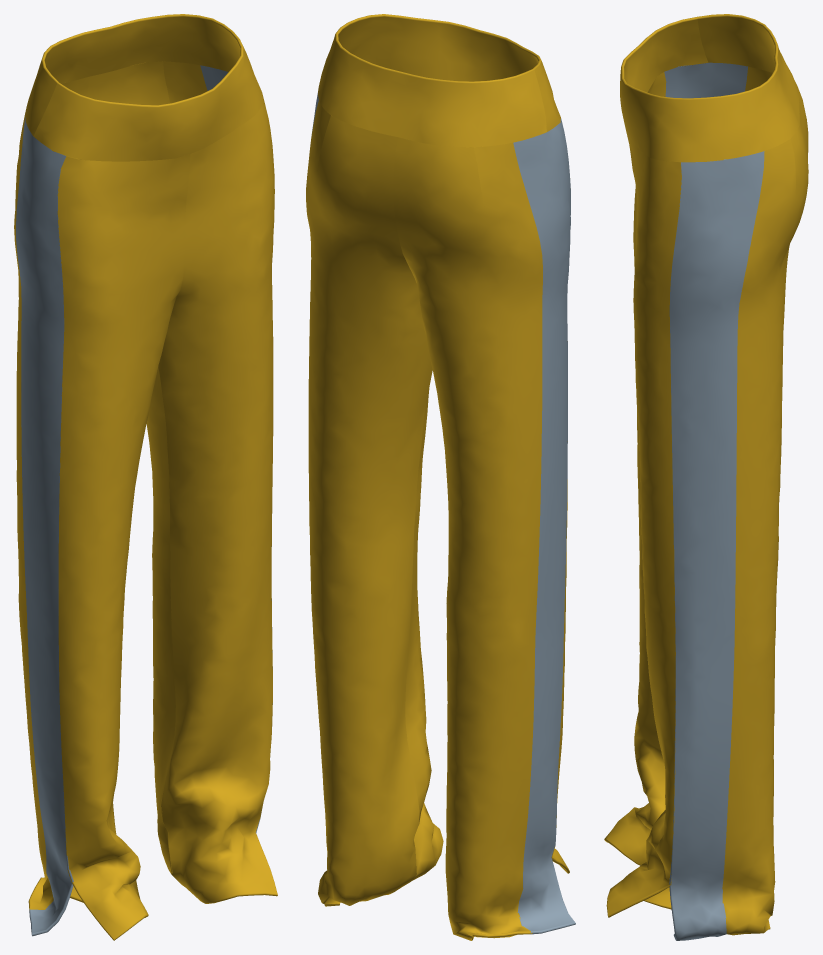
The picture shows the model from 3 angles, left to right: view 1: azimuth 30°, elevation 25°; view 2: azimuth 150°, elevation 25°; view 3: azimuth 270°, elevation 25°; orthographic projection. The views are drawn at different scales.
Parts seen in each view (by area): view 1: Pattern2D_4640240, Pattern2D_4476826, Pattern2D_4640238, Pattern2D_4220494, Pattern2D_4640241, Pattern2D_4555758; view 2: Pattern2D_4555758, Pattern2D_4640241, Pattern2D_4220494, Pattern2D_4640238, Pattern2D_4640240, Pattern2D_4476826; view 3: Pattern2D_4640242, Pattern2D_4640241, Pattern2D_4640240, Pattern2D_4220494, Pattern2D_4476826, Pattern2D_4640238, Pattern2D_4555758.
Boxes of the visible parts, left/top/right/bottom form: Pattern2D_4640240: left=158, top=94, right=277, bottom=903; Pattern2D_4476826: left=57, top=154, right=190, bottom=940; Pattern2D_4640238: left=16, top=117, right=73, bottom=936; Pattern2D_4220494: left=25, top=14, right=263, bottom=161; Pattern2D_4640241: left=87, top=61, right=207, bottom=882; Pattern2D_4555758: left=14, top=76, right=115, bottom=909; Pattern2D_4555758: left=393, top=137, right=542, bottom=940; Pattern2D_4640241: left=306, top=100, right=432, bottom=906; Pattern2D_4220494: left=318, top=14, right=560, bottom=147; Pattern2D_4640238: left=513, top=118, right=575, bottom=934; Pattern2D_4640240: left=405, top=389, right=443, bottom=881; Pattern2D_4476826: left=551, top=441, right=569, bottom=873; Pattern2D_4640242: left=669, top=151, right=764, bottom=940; Pattern2D_4640241: left=722, top=106, right=808, bottom=935; Pattern2D_4640240: left=606, top=133, right=681, bottom=917; Pattern2D_4220494: left=620, top=14, right=799, bottom=162; Pattern2D_4476826: left=604, top=72, right=666, bottom=865; Pattern2D_4640238: left=664, top=62, right=747, bottom=98; Pattern2D_4555758: left=745, top=66, right=808, bottom=152.
Bounding box in the file's own units: 35.53 × 118 × 26.05.
